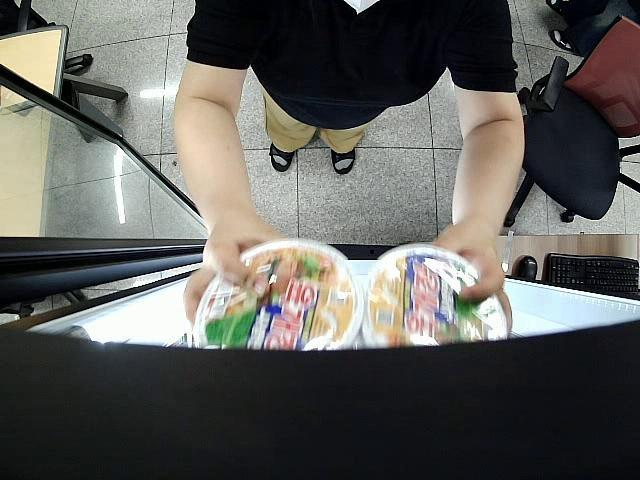09_yukGaeJang: (192, 239, 364, 348), (363, 244, 509, 348)
